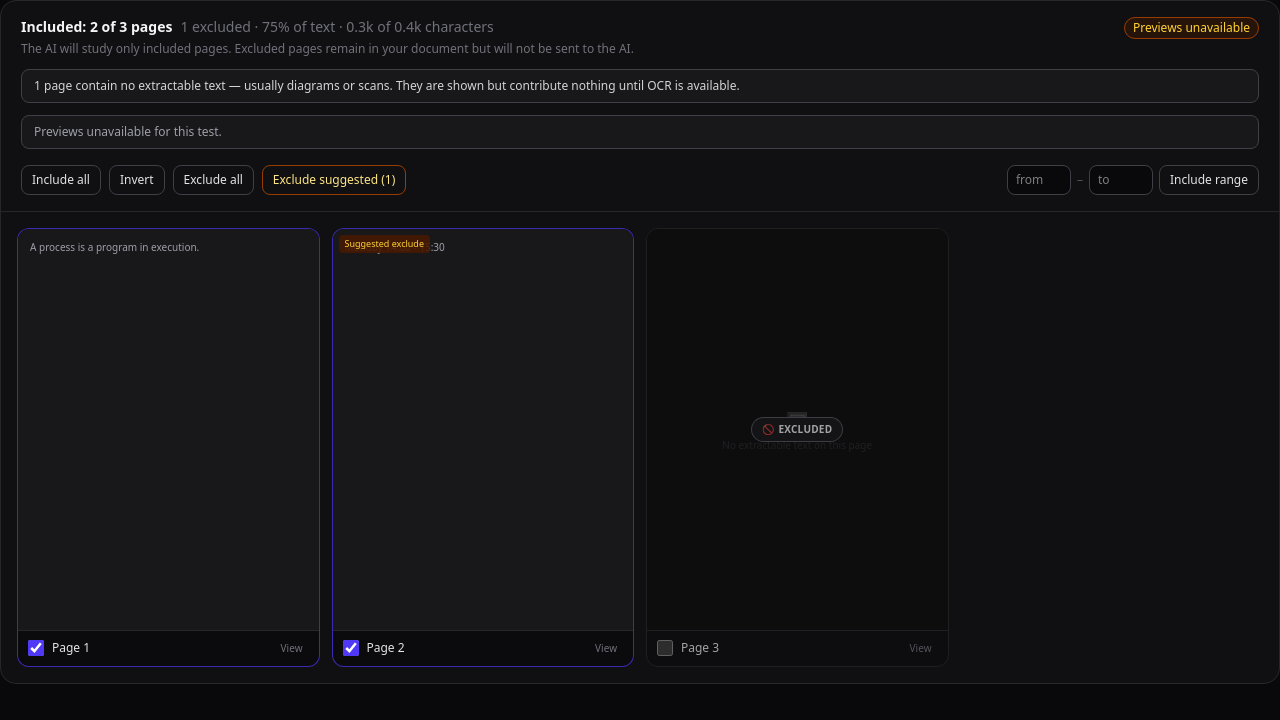
Scenario: PageSelector modal › opens a larger preview and navigates with keyboard
expect the checkbox named "Page 1, included" is shown: met, box [28,640,44,656]
Click the button with aria-label "Open larger preview of Page 1".
click(292, 648)  # box [275,639,308,658]
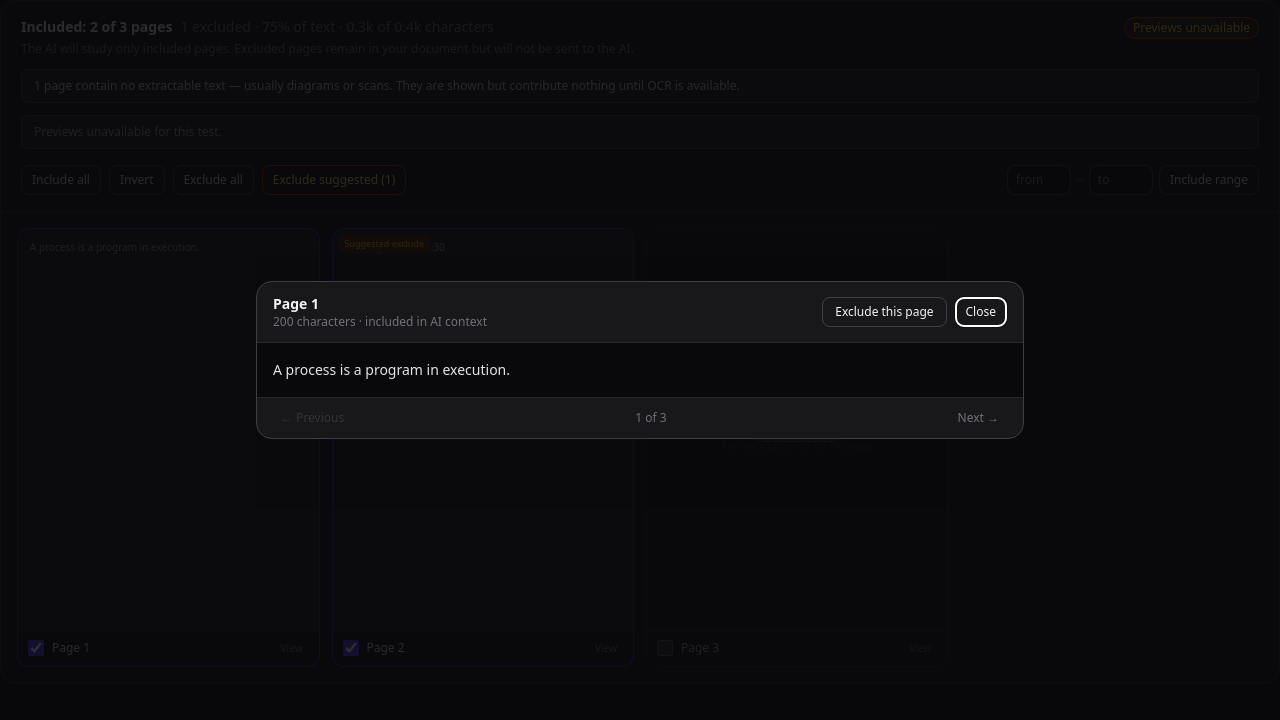
expect the dialog is shown: met
expect the text "1 of 3" is shown: met, box [635,410,667,426]
Press Arrowright
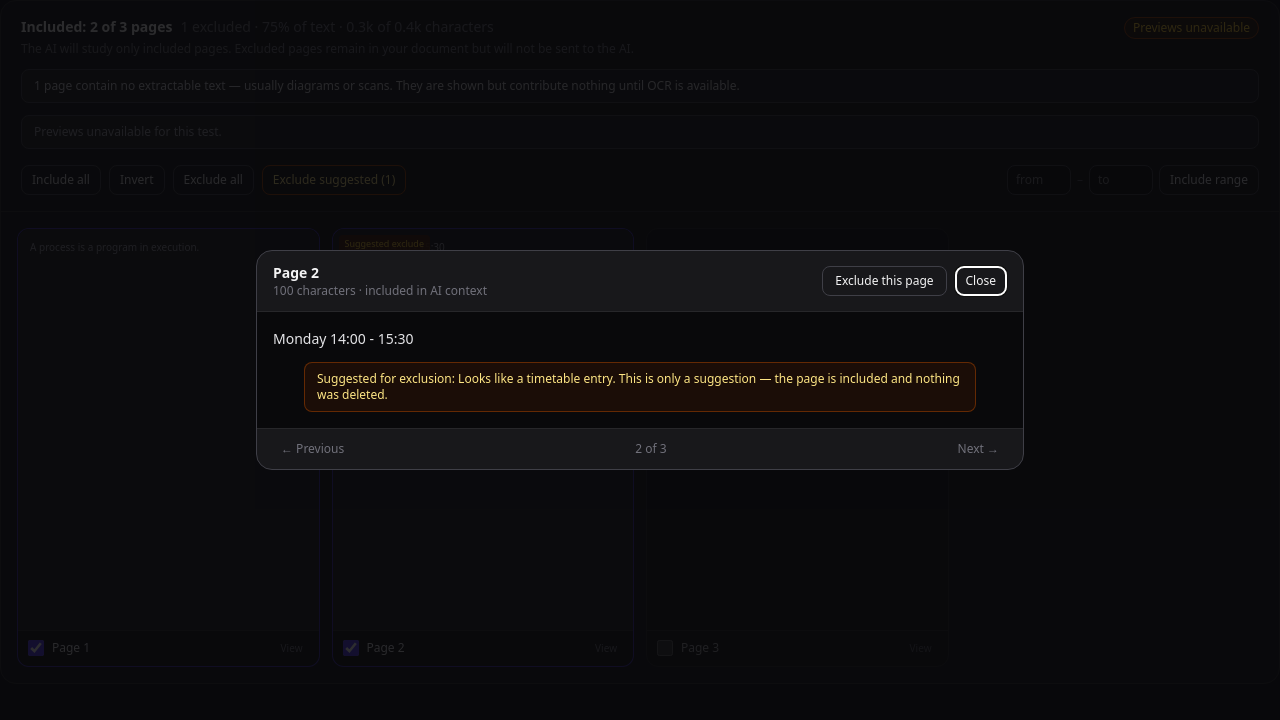
expect the dialog has attribute aria-label="Page 2 preview": met
Press Escape
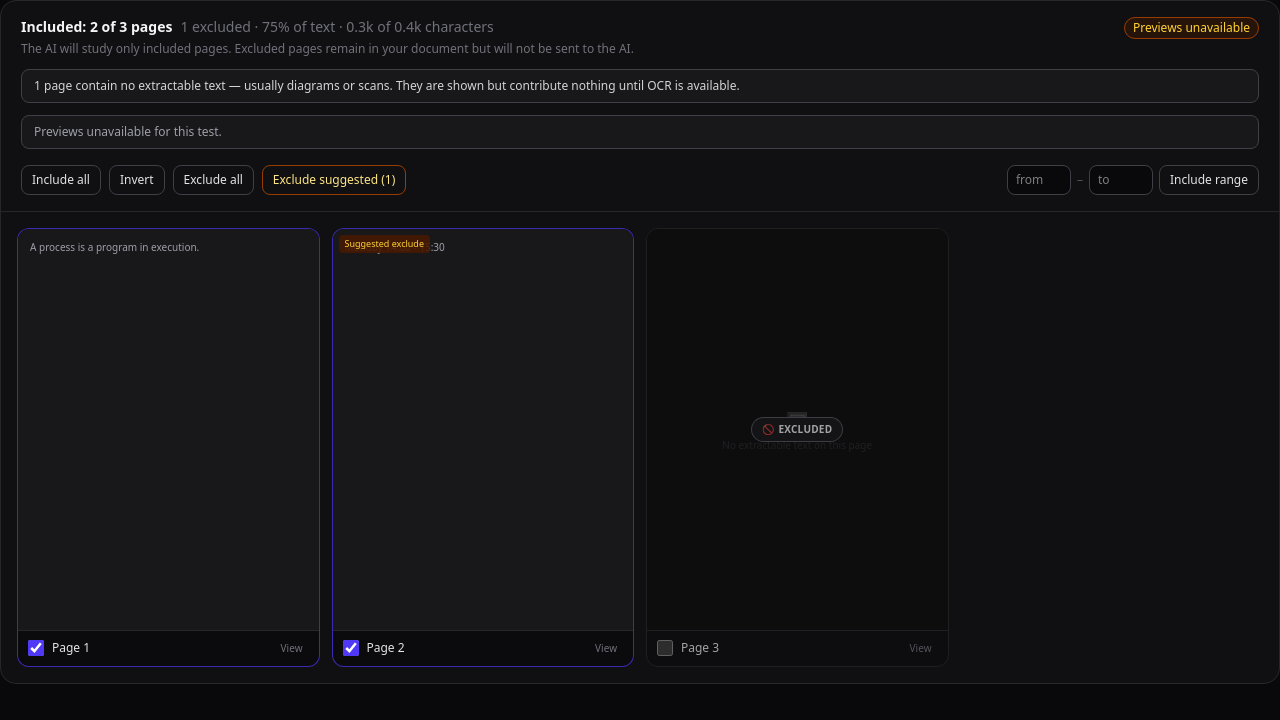
expect the dialog is gone: met
